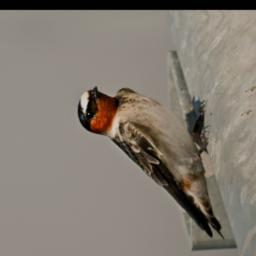Swallow: (73, 76, 226, 250)
